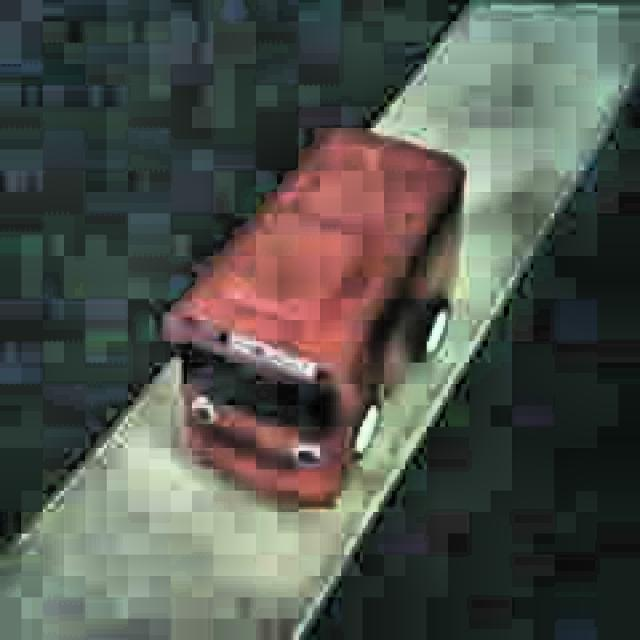bus: (166, 123, 466, 510)
